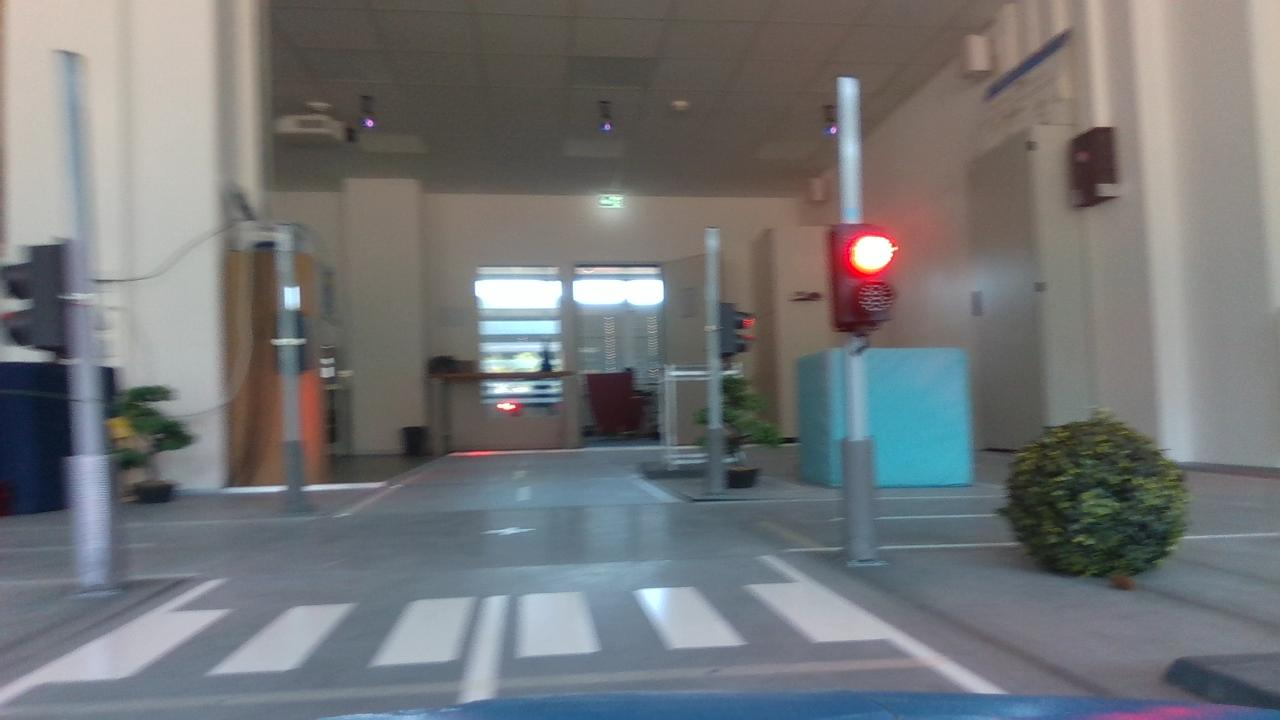traffic_light_red: (815, 207, 905, 342)
